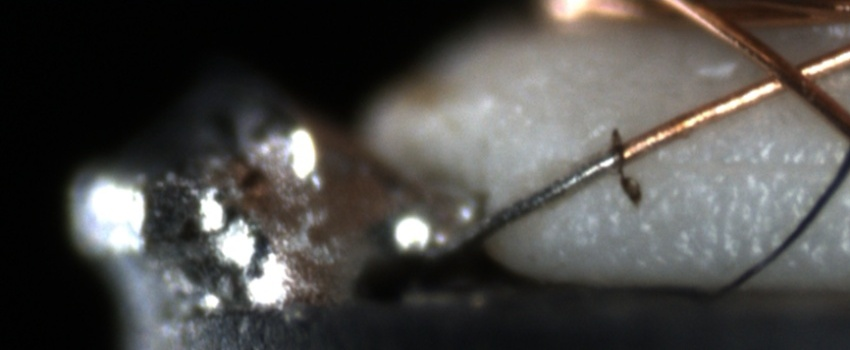CL: (743, 43, 836, 104)
DL: (639, 131, 850, 195)
TS: (410, 153, 617, 269)
TTCW: (437, 111, 699, 261)
